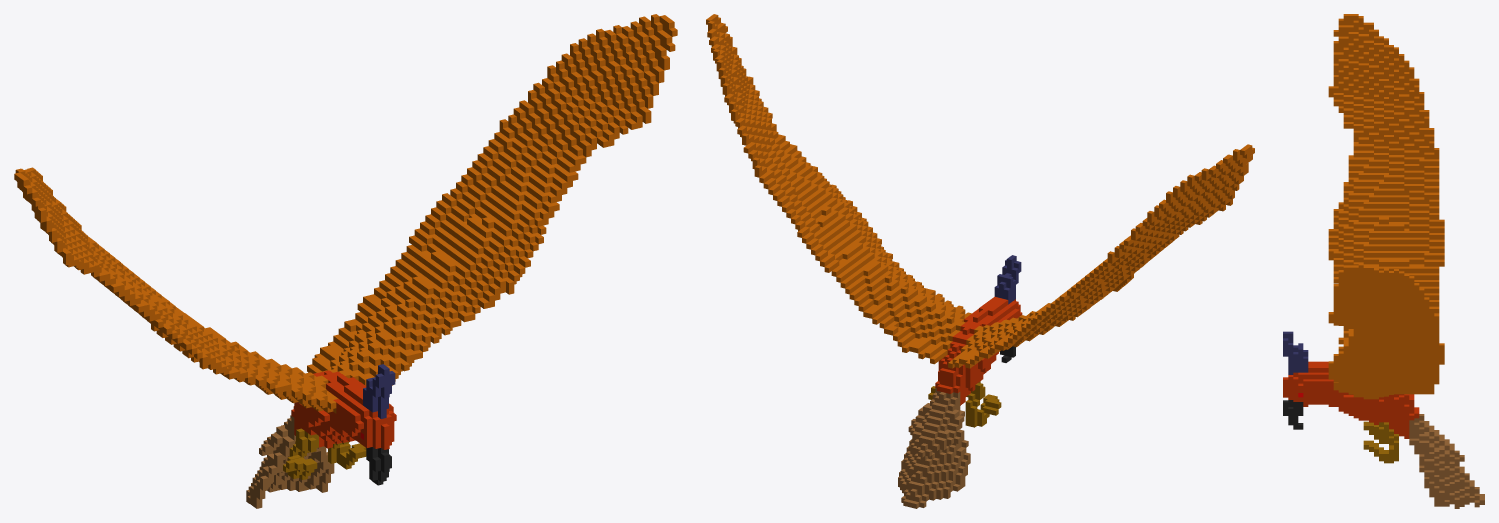
The model's file is Bird_5.glb.
The picture shows the model from 3 angles, left to right: view 1: azimuth 30°, elevation 25°; view 2: azimuth 150°, elevation 25°; view 3: azimuth 270°, elevation 25°; orthographic projection. The views are drawn at different scales.
Visible parts, largest first — view 1: Bird_3; view 2: Bird_3; view 3: Bird_3.
Boxes of the visible parts, x1,y1,x2,y2 form: Bird_3: [14, 14, 677, 508]; Bird_3: [706, 14, 1254, 508]; Bird_3: [1283, 14, 1484, 508].
Bounding box in the file's own units: 36.85 × 24.46 × 12.38.
1 material, 1 textured.
